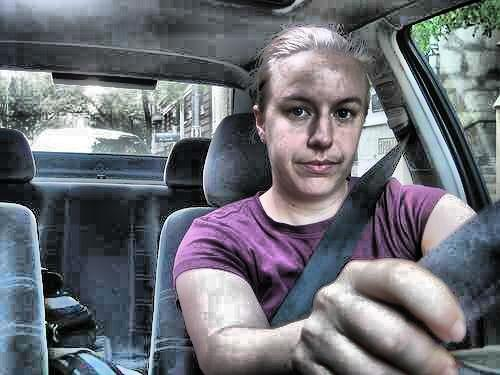seatbelt: (269, 120, 426, 313)
